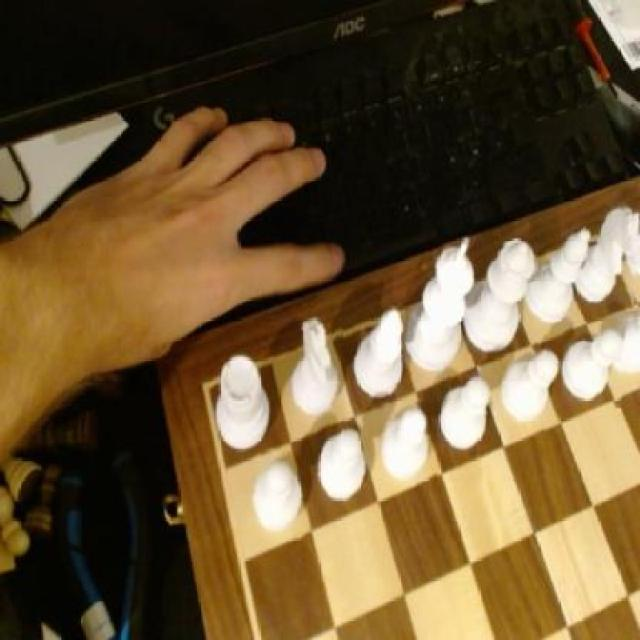black-rook: (351, 308, 408, 408), (530, 231, 588, 325)
white-bishop: (408, 237, 479, 376)
white-king: (577, 198, 639, 310), (288, 318, 344, 420)
white-knight: (562, 317, 624, 408), (316, 418, 372, 511), (502, 348, 562, 434), (251, 452, 308, 540), (379, 402, 436, 488), (439, 371, 493, 458)
white-pawn: (463, 240, 539, 354)
white-queen: (214, 352, 275, 452)
